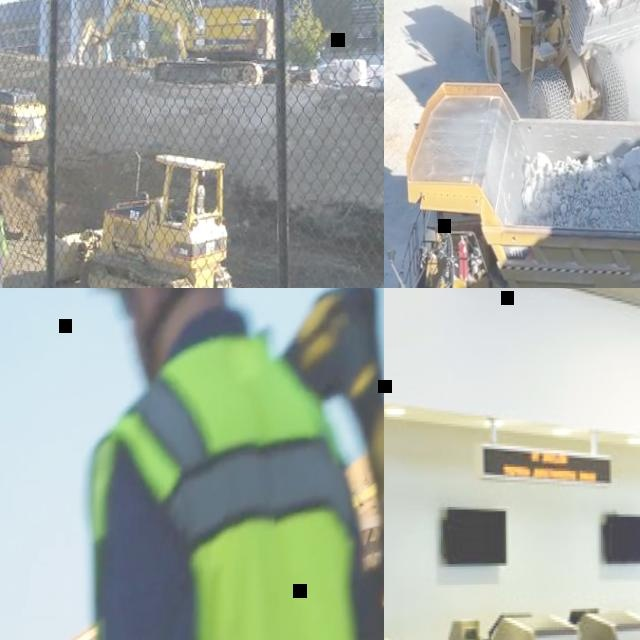Person: (92, 288, 381, 640)
Safety Vest: (84, 330, 378, 640)
machinery: (384, 72, 640, 288), (50, 151, 229, 288), (467, 0, 640, 121), (73, 0, 270, 88), (0, 0, 53, 178)
